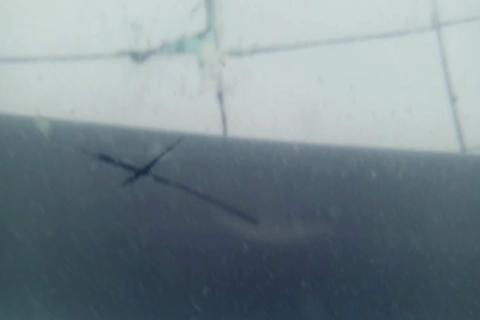keretakan: (83, 133, 262, 231)
